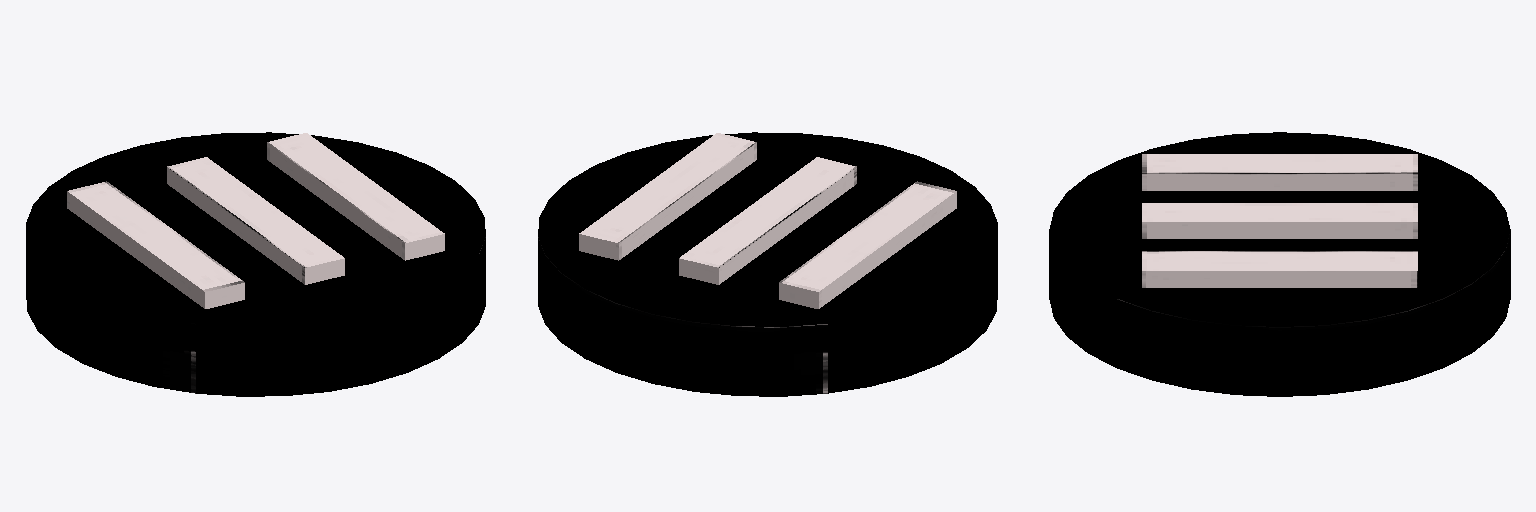
3 renders of one model, left to right at view 1: azimuth 30°, elevation 25°; view 2: azimuth 150°, elevation 25°; view 3: azimuth 270°, elevation 25°, orthographic.
Visible parts, largest first — view 1: 円柱_円柱.001; view 2: 円柱_円柱.001; view 3: 円柱_円柱.001.
Boxes of the visible parts, x1,y1,x2,y2 form: 円柱_円柱.001: [26, 132, 485, 396]; 円柱_円柱.001: [538, 132, 997, 396]; 円柱_円柱.001: [1049, 132, 1510, 396].
Bounding box in the file's own units: 2 × 0.4174 × 2.
1 materials, 1 textured.